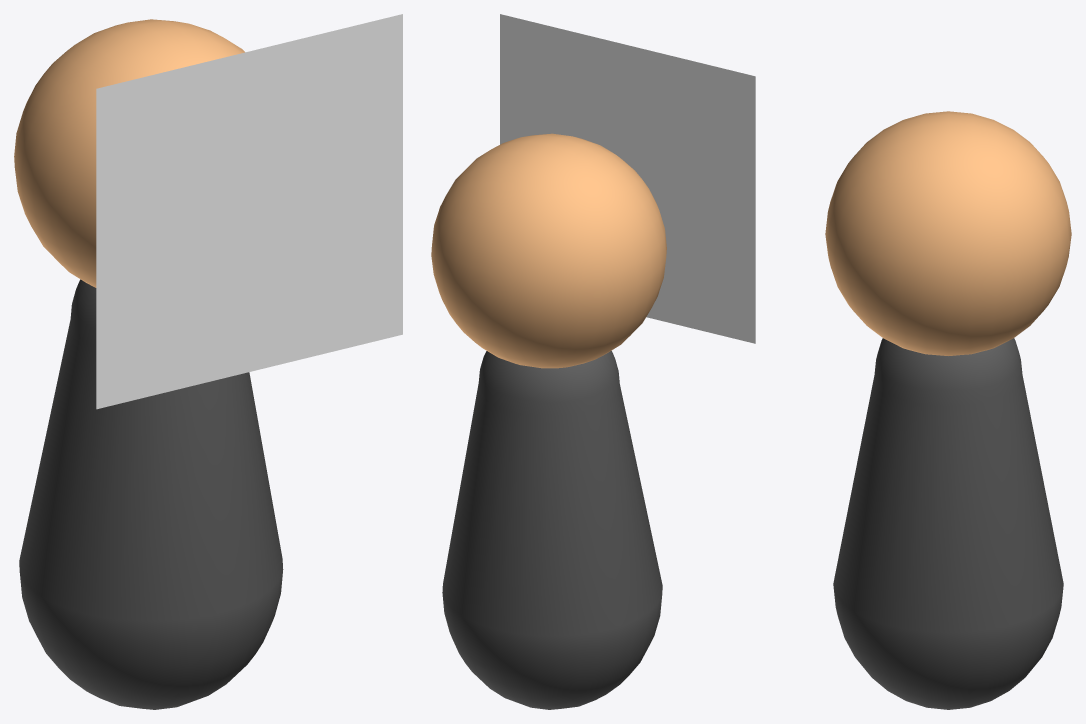
File: PlayerModel.fbx
3 renders of one model, left to right at view 1: azimuth 30°, elevation 25°; view 2: azimuth 150°, elevation 25°; view 3: azimuth 270°, elevation 25°, orthographic. The views are drawn at different scales.
Parts seen in each view (by area): view 1: FaceCam, Body, Head; view 2: Body, FaceCam, Head; view 3: Body, Head.
Boxes of the visible parts, x1,y1,x2,y2 form: FaceCam: [96, 14, 402, 409]; Body: [19, 279, 283, 709]; Head: [14, 19, 244, 287]; Body: [442, 351, 662, 709]; FaceCam: [500, 14, 755, 343]; Head: [431, 133, 666, 368]; Body: [833, 338, 1063, 709]; Head: [825, 111, 1071, 355].
Bounding box in the file's own units: 75 × 167 × 70.
